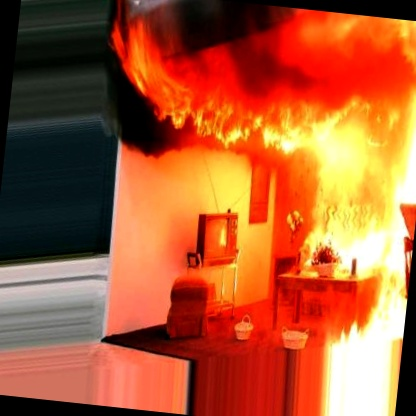fire: (76, 0, 416, 358)
